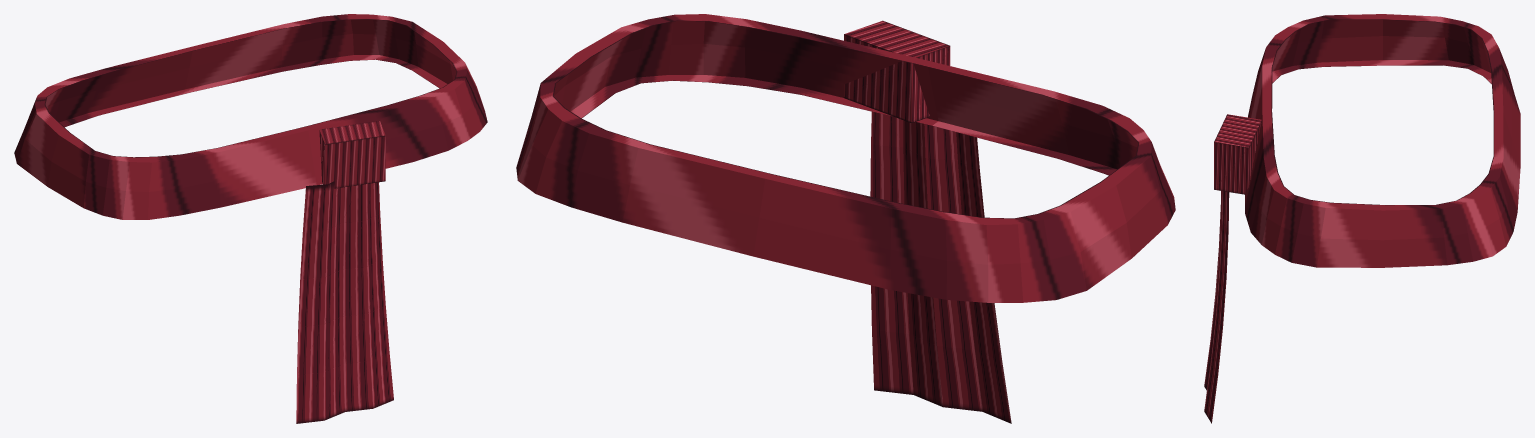
The model's file is acc_Echarpe.fbx.
The picture shows the model from 3 angles, left to right: view 1: azimuth 30°, elevation 25°; view 2: azimuth 150°, elevation 25°; view 3: azimuth 270°, elevation 25°; orthographic projection. The views are drawn at different scales.
Visible parts, largest first — view 1: Echarpe; view 2: Echarpe; view 3: Echarpe.
Boxes of the visible parts, x1=… form: Echarpe: x1=14, y1=14, x2=487, y2=423; Echarpe: x1=516, y1=14, x2=1175, y2=423; Echarpe: x1=1204, y1=14, x2=1520, y2=423.
Size of the model in its own units: 224 by 141 by 144.
Materials: 1 (1 with a texture image).
